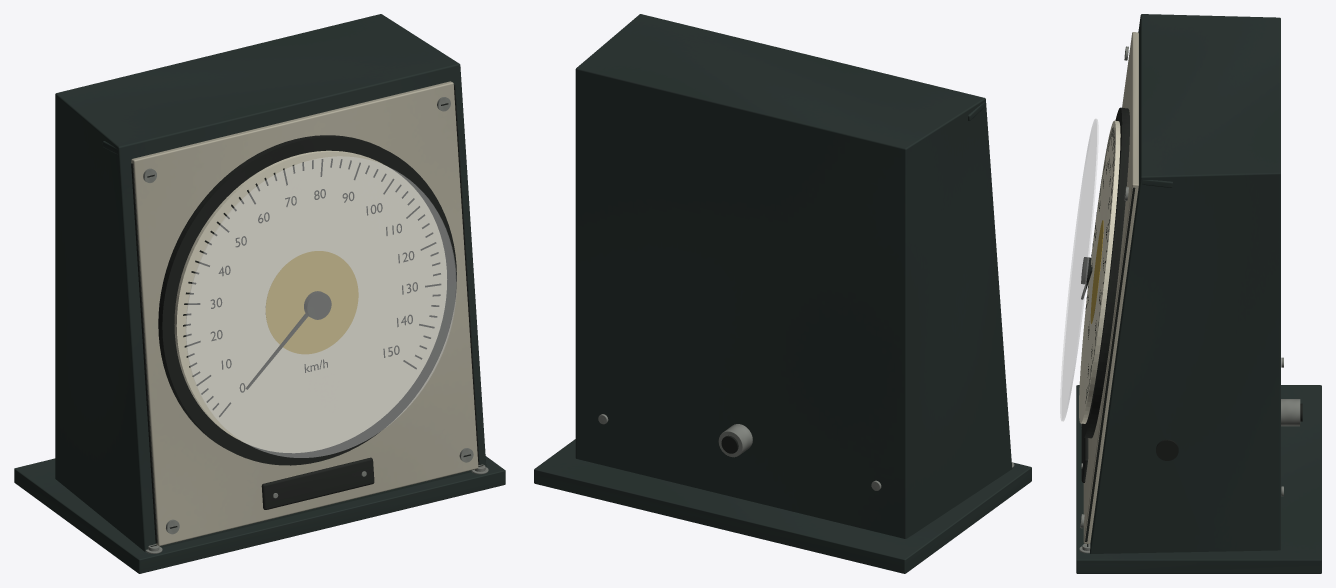
The model's file is speedometer_final.glb.
3 renders of one model, left to right at view 1: azimuth 30°, elevation 25°; view 2: azimuth 150°, elevation 25°; view 3: azimuth 270°, elevation 25°, orthographic. The views are drawn at different scales.
Parts seen in each view (by area): view 1: Fixed_Tapered_Rear_Housing, Fixed_Protective_Glass, Dial_Face, Fixed_Front_Metal_Panel, Dial_Dark_Bezel, Fixed_Foot, Dial_Yellow_Center, Fixed_Nameplate, Fixed_Dial_Printing, Front_Service_Gasket, Front_Service_Gasket.001, Needle_Cap; view 2: Fixed_Tapered_Rear_Housing, Fixed_Foot, Rear_Cable_Gland; view 3: Fixed_Tapered_Rear_Housing, Fixed_Foot, Fixed_Front_Metal_Panel, Dial_Face, Fixed_Protective_Glass, Dial_Dark_Bezel, Front_Service_Gasket.001, Fixed_Dial_Printing, Rear_Cable_Gland, Dial_Yellow_Center, Side_Service_Plug.
Boxes of the visible parts, left/top/right/bottom form: Fixed_Tapered_Rear_Housing: left=55, top=14, right=486, bottom=551; Fixed_Protective_Glass: left=186, top=156, right=456, bottom=457; Dial_Face: left=174, top=150, right=446, bottom=453; Fixed_Front_Metal_Panel: left=131, top=81, right=478, bottom=546; Dial_Dark_Bezel: left=158, top=135, right=456, bottom=465; Fixed_Foot: left=14, top=456, right=505, bottom=573; Dial_Yellow_Center: left=265, top=251, right=358, bottom=354; Fixed_Nameplate: left=261, top=457, right=374, bottom=509; Fixed_Dial_Printing: left=147, top=103, right=470, bottom=528; Front_Service_Gasket: left=131, top=163, right=157, bottom=543; Front_Service_Gasket.001: left=454, top=84, right=479, bottom=464; Needle_Cap: left=304, top=291, right=331, bottom=319; Fixed_Tapered_Rear_Housing: left=575, top=14, right=1012, bottom=538; Fixed_Foot: left=534, top=439, right=1031, bottom=573; Rear_Cable_Gland: left=718, top=424, right=752, bottom=457; Fixed_Tapered_Rear_Housing: left=1090, top=14, right=1280, bottom=553; Fixed_Foot: left=1076, top=385, right=1321, bottom=573; Fixed_Front_Metal_Panel: left=1083, top=32, right=1138, bottom=543; Dial_Face: left=1079, top=120, right=1120, bottom=423; Fixed_Protective_Glass: left=1060, top=119, right=1098, bottom=421; Dial_Dark_Bezel: left=1081, top=107, right=1129, bottom=438; Front_Service_Gasket.001: left=1085, top=187, right=1135, bottom=541; Fixed_Dial_Printing: left=1080, top=51, right=1125, bottom=522; Rear_Cable_Gland: left=1281, top=399, right=1300, bottom=426; Dial_Yellow_Center: left=1090, top=220, right=1103, bottom=323; Side_Service_Plug: left=1156, top=439, right=1178, bottom=460.
Size of the model in its own units: 0.1824 by 0.19 by 0.1152.
8 materials, 5 textured.
